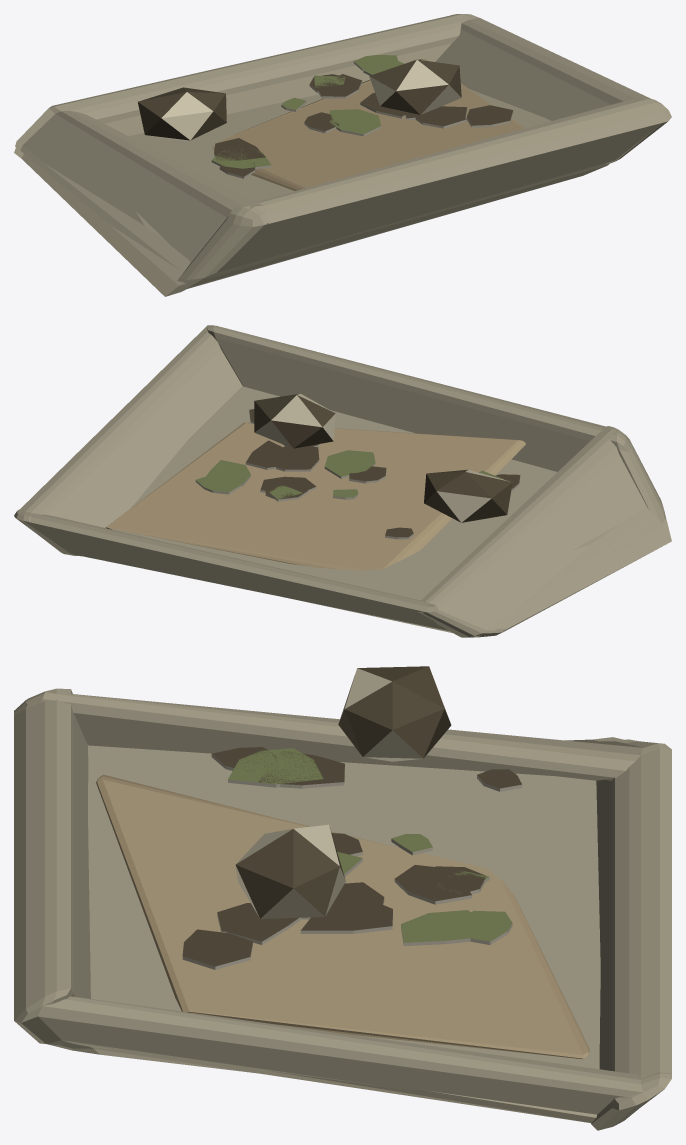
Rendered from Tray_Filthy_Broken.glb.
The picture shows the model from 3 angles, top to bottom: view 1: azimuth 30°, elevation 25°; view 2: azimuth 150°, elevation 25°; view 3: azimuth 270°, elevation 25°; orthographic projection. The views are drawn at different scales.
Parts seen in each view (by area): view 1: Litter; view 2: Litter; view 3: Litter.
Part boxes in pixels (left/top/right/bottom): Litter: left=14, top=14, right=671, bottom=296; Litter: left=14, top=325, right=671, bottom=637; Litter: left=14, top=666, right=671, bottom=1130.
Size of the model in its own units: 0.3699 by 0.0871 by 0.2657.
